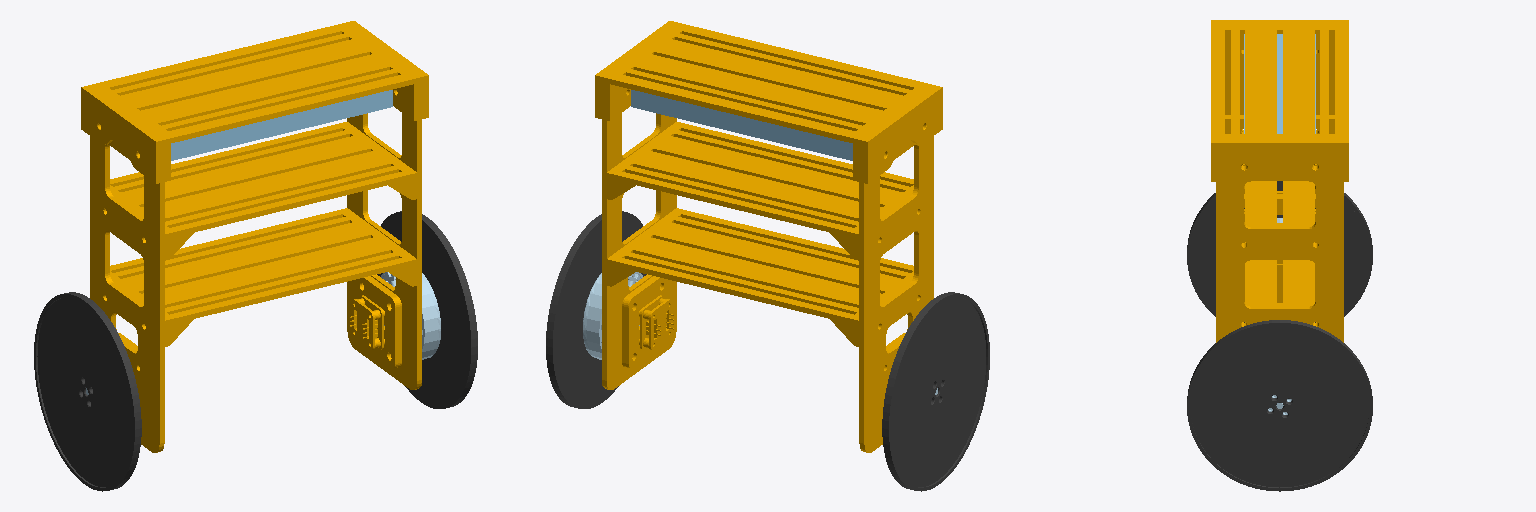
robot.urdf — [local-path]\Documents\Projekty\STABILIZACJA\Self-Balancing robo:
<?xml version="1.0" ?>
<!-- Generated using onshape-to-robot -->
<!-- Onshape https://cad.onshape.com/documents/56412f928a6dce393d93aad5/w/910f67ab0341f16561fd93d5/e/8f3e7474a78a081357b6f6a5 -->
<robot name="[local-path]\Documents\Projekty\STABILIZACJA\Self-Balancing robot\robot_files\my-robot">
  <!-- Link frame -->
  <link name="frame">
    <inertial>
      <origin xyz="-0.00825969 0.0374379 0.0410191" rpy="0 0 0"/>
      <mass value="0.617"/>
      <inertia ixx="0.00271437" ixy="1.40011e-08" ixz="8.83996e-06" iyy="0.0050345" iyz="2.25796e-10" izz="0.00261345"/>
    </inertial>
    <!-- Part robot_stablizujacy_silnik -->
    <visual>
      <origin xyz="-0.018 0.038 -0.0899831" rpy="3.14159 -0 3.14159"/>
      <geometry>
        <mesh filename="package://assets\robot_stablizujacy_silnik.stl"/>
      </geometry>
      <material name="robot_stablizujacy_silnik_material">
        <color rgba="0.768627 0.886275 0.952941 1"/>
      </material>
    </visual>
    <collision>
      <origin xyz="-0.018 0.038 -0.0899831" rpy="3.14159 -0 3.14159"/>
      <geometry>
        <mesh filename="package://assets\robot_stablizujacy_silnik.stl"/>
      </geometry>
    </collision>
    <!-- Part lipo -->
    <visual>
      <origin xyz="-0.0784829 0.0748364 0.0850084" rpy="0 -0 0"/>
      <geometry>
        <mesh filename="package://assets\lipo.stl"/>
      </geometry>
      <material name="lipo_material">
        <color rgba="0.615686 0.811765 0.929412 1"/>
      </material>
    </visual>
    <collision>
      <origin xyz="-0.0784829 0.0748364 0.0850084" rpy="0 -0 0"/>
      <geometry>
        <mesh filename="package://assets\lipo.stl"/>
      </geometry>
    </collision>
    <!-- Part robot_stablizujacy_silnik_2 -->
    <visual>
      <origin xyz="0.002 0.038 0" rpy="0 -0 0"/>
      <geometry>
        <mesh filename="package://assets\robot_stablizujacy_silnik.stl"/>
      </geometry>
      <material name="robot_stablizujacy_silnik_2_material">
        <color rgba="0.768627 0.886275 0.952941 1"/>
      </material>
    </visual>
    <collision>
      <origin xyz="0.002 0.038 0" rpy="0 -0 0"/>
      <geometry>
        <mesh filename="package://assets\robot_stablizujacy_silnik.stl"/>
      </geometry>
    </collision>
    <!-- Part robot_stabilizujacy_rama -->
    <visual>
      <origin xyz="0.002 0.038 0" rpy="0 -0 0"/>
      <geometry>
        <mesh filename="package://assets\robot_stabilizujacy_rama.stl"/>
      </geometry>
      <material name="robot_stabilizujacy_rama_material">
        <color rgba="0.980392 0.713725 0.00392157 1"/>
      </material>
    </visual>
    <collision>
      <origin xyz="0.002 0.038 0" rpy="0 -0 0"/>
      <geometry>
        <mesh filename="package://assets\robot_stabilizujacy_rama.stl"/>
      </geometry>
    </collision>
  </link>
  <!-- Link wheel -->
  <link name="wheel">
    <inertial>
      <origin xyz="1.0842e-18 6.93889e-18 0.00154919" rpy="0 0 0"/>
      <mass value="0.03"/>
      <inertia ixx="2.08867e-05" ixy="0" ixz="0" iyy="2.08867e-05" iyz="0" izz="4.17237e-05"/>
    </inertial>
    <!-- Part wheel -->
    <visual>
      <origin xyz="0.000562153 -0.0449916 -0.1078" rpy="1.5708 1.5708 0"/>
      <geometry>
        <mesh filename="package://assets\wheel.stl"/>
      </geometry>
      <material name="wheel_material">
        <color rgba="0.301961 0.301961 0.301961 1"/>
      </material>
    </visual>
    <collision>
      <origin xyz="0.000562153 -0.0449916 -0.1078" rpy="1.5708 1.5708 0"/>
      <geometry>
        <mesh filename="package://assets\wheel.stl"/>
      </geometry>
    </collision>
  </link>
  <!-- Joint from frame to wheel -->
  <joint name="frame_to_wheel_1" type="continuous">
    <origin xyz="0.0898 0.0374378 -0.0449916" rpy="1.5708 -0 1.5708"/>
    <parent link="frame"/>
    <child link="wheel"/>
    <axis xyz="0 0 1"/>
    <limit effort="10" velocity="10"/>
  </joint>
  <!-- Link wheel_2 -->
  <link name="wheel_2">
    <inertial>
      <origin xyz="1.0842e-18 6.93889e-18 0.00154919" rpy="0 0 0"/>
      <mass value="0.03"/>
      <inertia ixx="2.08867e-05" ixy="0" ixz="0" iyy="2.08867e-05" iyz="0" izz="4.17237e-05"/>
    </inertial>
    <!-- Part wheel_2 -->
    <visual>
      <origin xyz="0.000562153 -0.0449916 -0.1078" rpy="1.5708 1.5708 0"/>
      <geometry>
        <mesh filename="package://assets\wheel.stl"/>
      </geometry>
      <material name="wheel_2_material">
        <color rgba="0.301961 0.301961 0.301961 1"/>
      </material>
    </visual>
    <collision>
      <origin xyz="0.000562153 -0.0449916 -0.1078" rpy="1.5708 1.5708 0"/>
      <geometry>
        <mesh filename="package://assets\wheel.stl"/>
      </geometry>
    </collision>
  </link>
  <!-- Joint from frame to wheel_2 -->
  <joint name="frame_to_wheel_2" type="continuous">
    <origin xyz="-0.1058 0.0374378 -0.0449916" rpy="-1.5708 -0 1.5708"/>
    <parent link="frame"/>
    <child link="wheel_2"/>
    <axis xyz="0 0 1"/>
    <limit effort="10" velocity="10"/>
  </joint>
</robot>

--- Render facts (derived) ---
The picture shows the robot from 3 angles, left to right: view 1: azimuth 30°, elevation 25°; view 2: azimuth 150°, elevation 25°; view 3: azimuth 270°, elevation 25°; orthographic projection.
Robot: [local-path]\Documents\Projekty\STABILIZACJA\Self-Balancing robo — 3 links, 2 joints (2 continuous); root link frame; default pose: all joints at 0.
Visible links, largest first — view 1: frame, wheel_2, wheel; view 2: frame, wheel_2, wheel; view 3: frame, wheel, wheel_2.
Link boxes in pixels (x1=…): frame: x1=81, y1=21, x2=440, y2=452; wheel_2: x1=34, y1=292, x2=141, y2=491; wheel: x1=377, y1=211, x2=477, y2=408; frame: x1=583, y1=21, x2=942, y2=452; wheel_2: x1=882, y1=292, x2=989, y2=491; wheel: x1=546, y1=211, x2=646, y2=408; frame: x1=1211, y1=20, x2=1348, y2=414; wheel: x1=1187, y1=320, x2=1372, y2=491; wheel_2: x1=1187, y1=181, x2=1372, y2=322.
Size in the robot's own frame: 0.2036 by 0.104 by 0.205 metres.
Meshes: 4 distinct files referenced, 6 mesh visuals loaded (4 binary STL).
